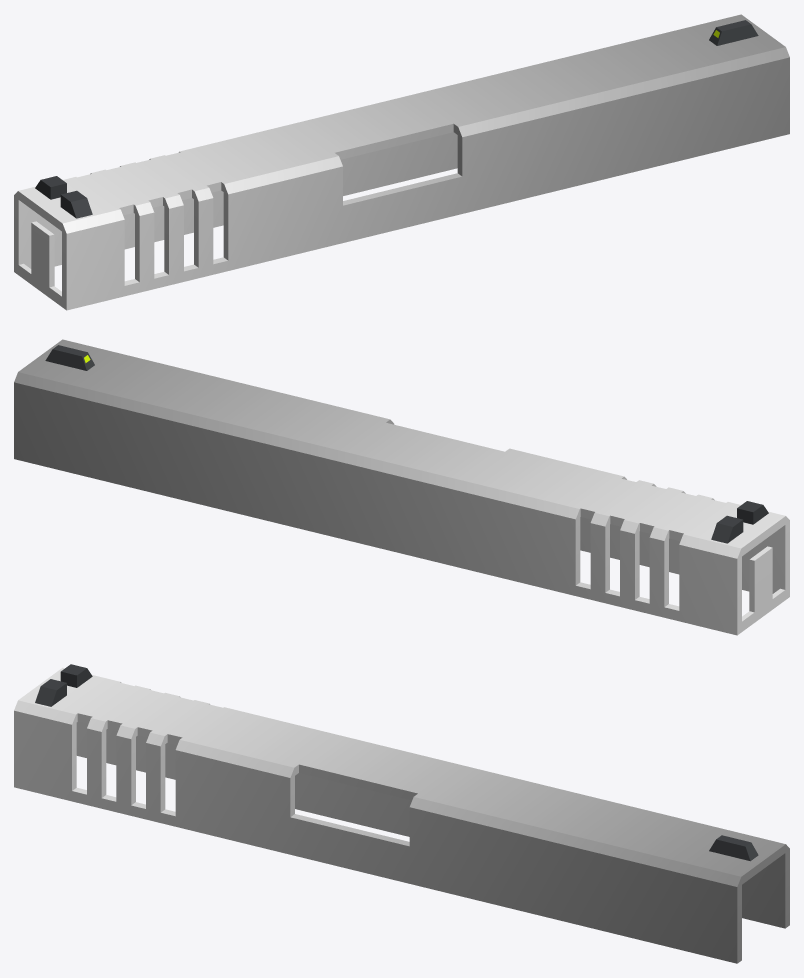
File: Pistol4_06_2.fbx
The picture shows the model from 3 angles, top to bottom: view 1: azimuth 30°, elevation 25°; view 2: azimuth 150°, elevation 25°; view 3: azimuth 330°, elevation 25°; orthographic projection.
Visible parts, largest first — view 1: Pistol4_06_2; view 2: Pistol4_06_2; view 3: Pistol4_06_2.
Part boxes in pixels (bbox=[...]): Pistol4_06_2: bbox=[14, 14, 789, 310]; Pistol4_06_2: bbox=[14, 339, 789, 635]; Pistol4_06_2: bbox=[14, 664, 789, 963].
Bounding box in the file's own units: 0.224 × 0.0286 × 0.0283.
